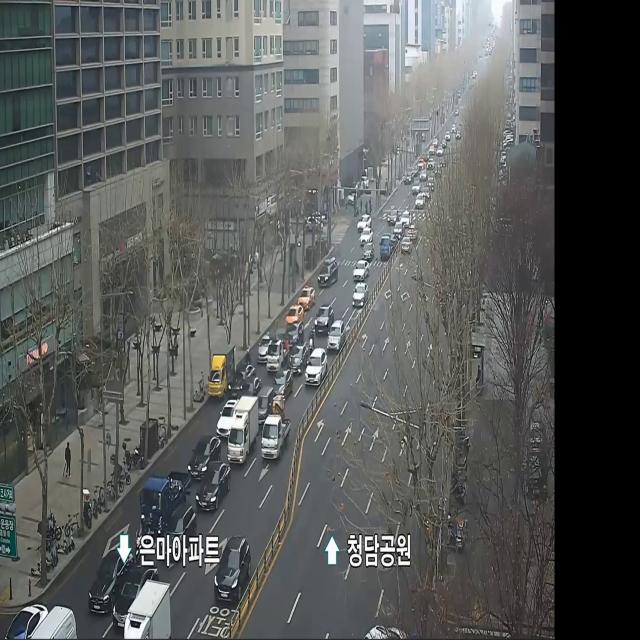bus: (135, 515, 150, 556), (309, 327, 314, 353)
motorcycle: (110, 559, 159, 631), (86, 544, 134, 615), (124, 578, 173, 638), (214, 535, 251, 600), (227, 396, 259, 465), (260, 393, 292, 462), (163, 504, 196, 562), (195, 461, 231, 514), (207, 343, 237, 403), (4, 603, 48, 640), (34, 608, 80, 640), (226, 364, 257, 398), (216, 399, 239, 439), (305, 349, 327, 386), (189, 438, 221, 459), (318, 258, 338, 288), (259, 385, 274, 423), (328, 321, 345, 352), (315, 306, 333, 329), (352, 283, 368, 308), (290, 346, 304, 374), (286, 306, 304, 326), (274, 370, 292, 390), (353, 260, 369, 279), (258, 334, 268, 364), (299, 287, 315, 305), (288, 326, 304, 344), (241, 382, 259, 394), (360, 229, 372, 245), (363, 242, 374, 258), (402, 237, 411, 254), (358, 216, 370, 226), (410, 227, 418, 241), (389, 210, 397, 224), (395, 223, 403, 235)
truck: (140, 473, 189, 510), (270, 334, 288, 368), (380, 232, 396, 259)
